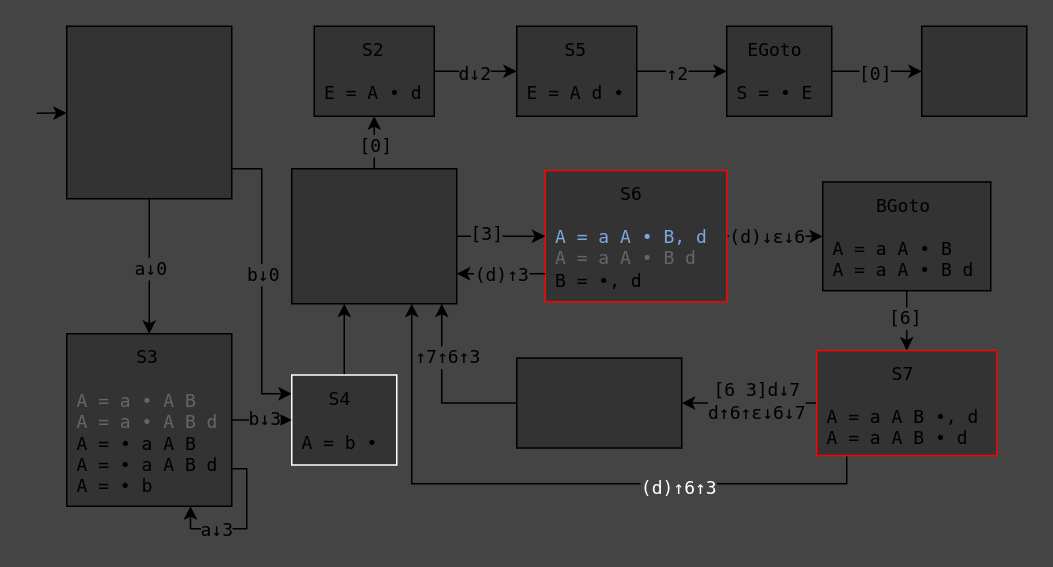
Image size: 1053x567. Some labels were removed from this diagram. Each missing label, with the box of its shape:
AGoto E = • A d A = a • A B A = a • A B d: (290, 167, 457, 304)
S0 S = • E E = • A d A = • a A B A = • a A B d A = • b: (65, 25, 232, 199)
S1 S = E •: (920, 25, 1027, 116)
S8 A = a A B d •: (515, 357, 682, 448)
